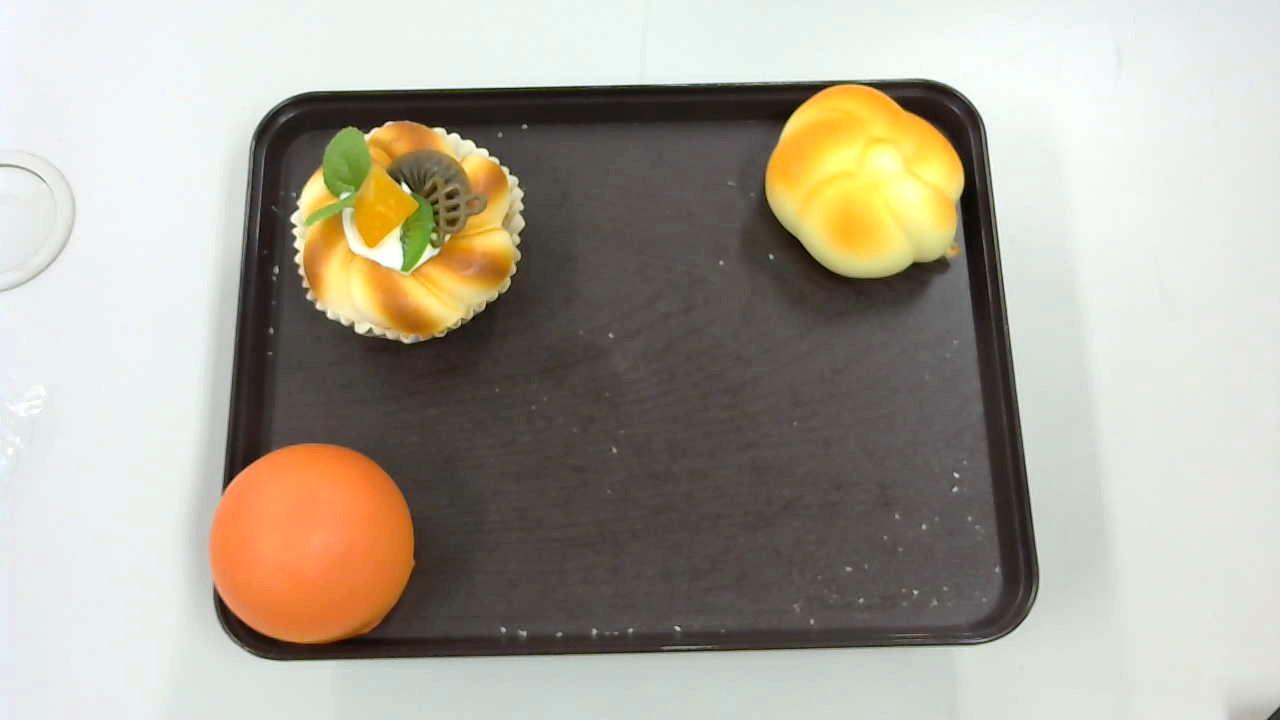bun: (211, 442, 414, 644)
croissant: (761, 82, 965, 277)
fruit tart: (290, 120, 525, 343)
